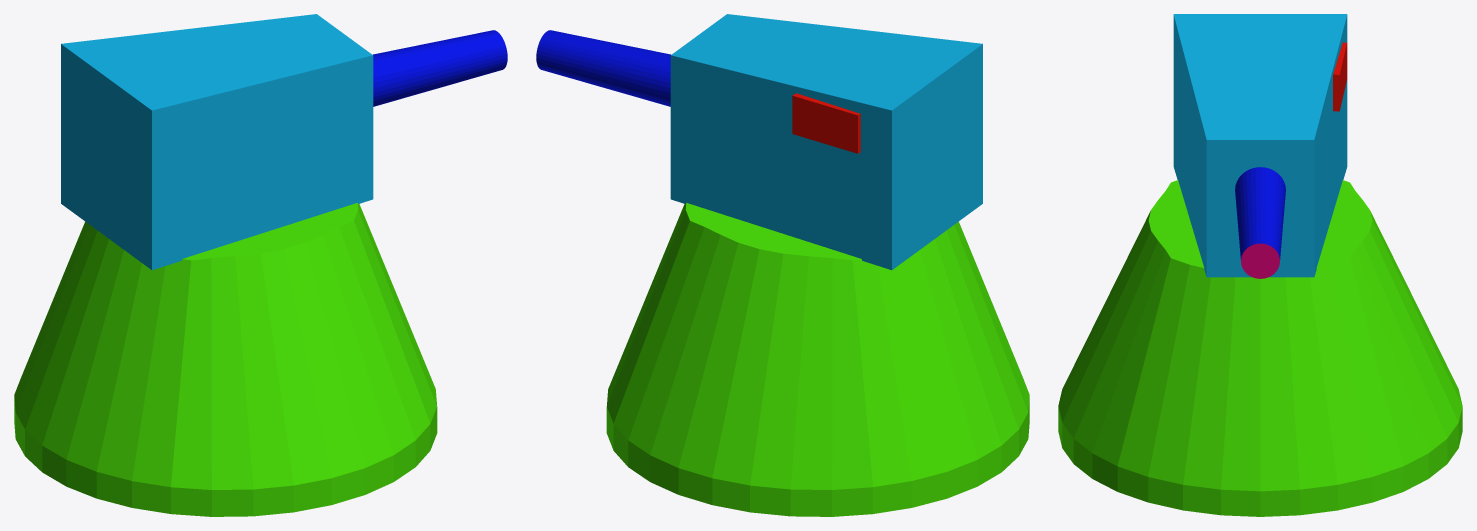
The model's file is TurretMk2.fbx.
3 views of the same model, side by side, from view 1: azimuth 30°, elevation 25°; view 2: azimuth 150°, elevation 25°; view 3: azimuth 270°, elevation 25° (orthographic). The views are drawn at different scales.
Visible parts, largest first — view 1: Cube.001; view 2: Cube.001; view 3: Cube.001.
Part boxes in pixels (x1=…): Cube.001: x1=14, y1=14, x2=507, y2=516; Cube.001: x1=536, y1=14, x2=1029, y2=516; Cube.001: x1=1058, y1=14, x2=1462, y2=516.
Bounding box in the file's own units: 248 × 198 × 200.
